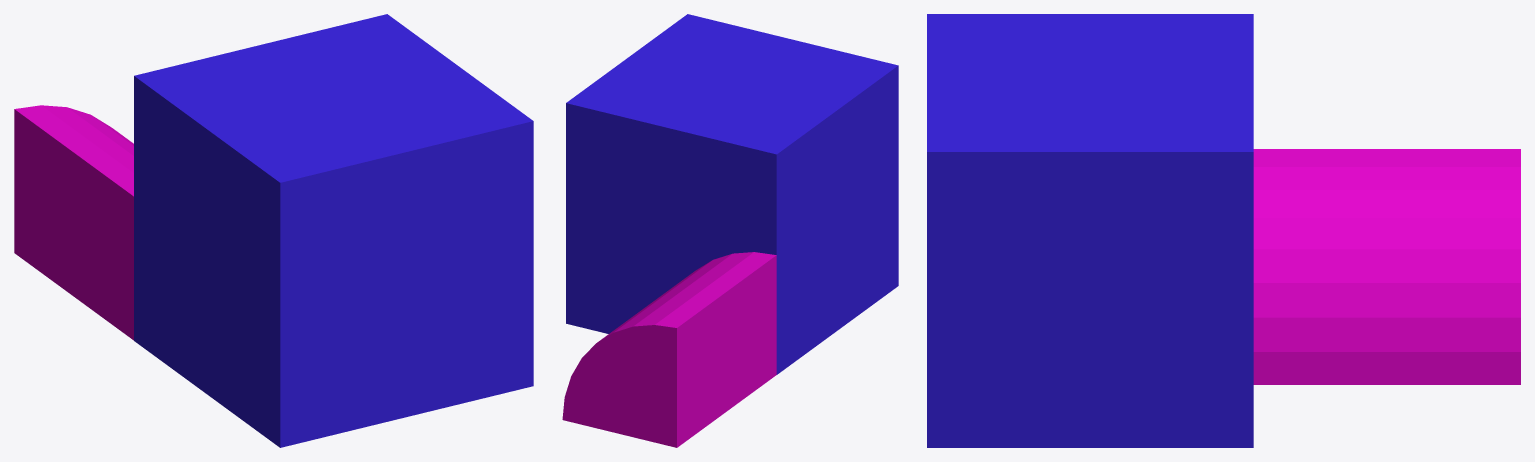
File: rondPointQuart.fbx
3 views of the same model, side by side, from view 1: azimuth 30°, elevation 25°; view 2: azimuth 150°, elevation 25°; view 3: azimuth 270°, elevation 25° (orthographic). The views are drawn at different scales.
Visible parts, largest first — view 1: Cylinder.001; view 2: Cylinder.001; view 3: Cylinder.001.
Boxes of the visible parts, box(x1,y1,x2,y2) form: Cylinder.001: box(14, 14, 533, 447); Cylinder.001: box(562, 14, 898, 447); Cylinder.001: box(927, 14, 1520, 447).
Size of the model in its own units: 100 by 100 by 182.
